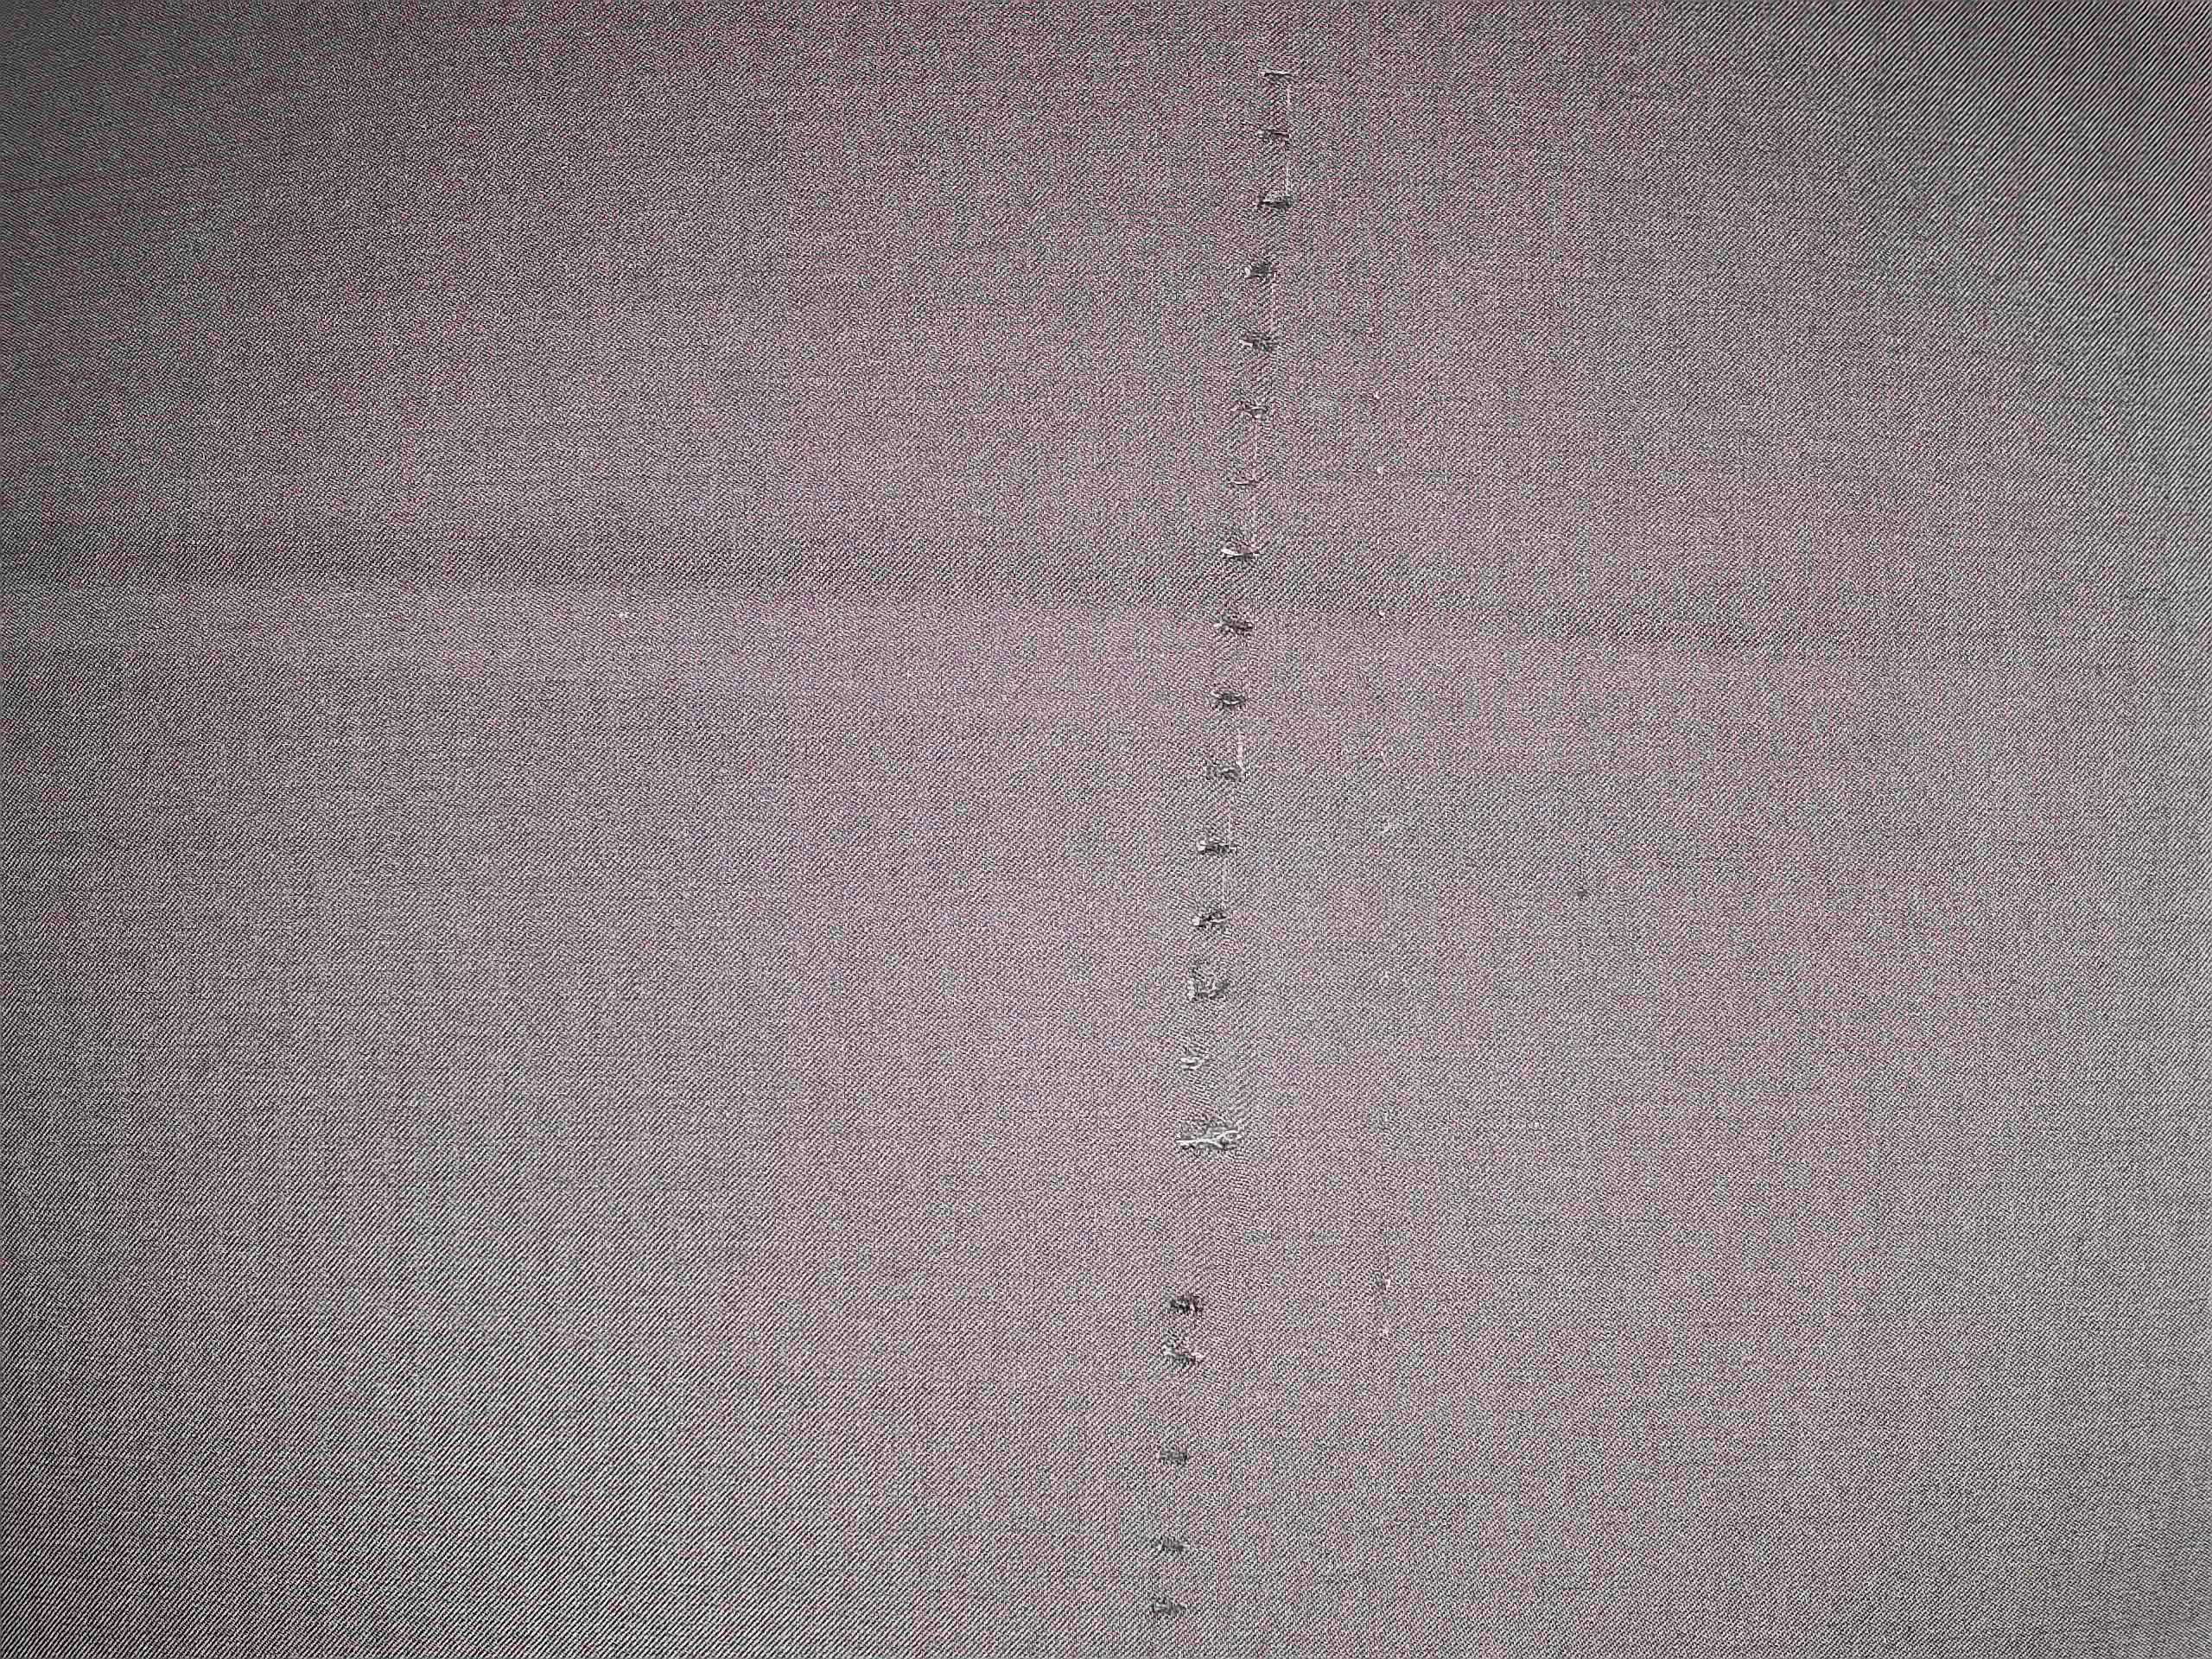puncture-hole: (1130, 63, 1324, 1610)
